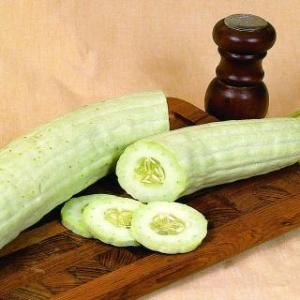cucumber: (0, 88, 168, 248), (117, 118, 300, 202)
